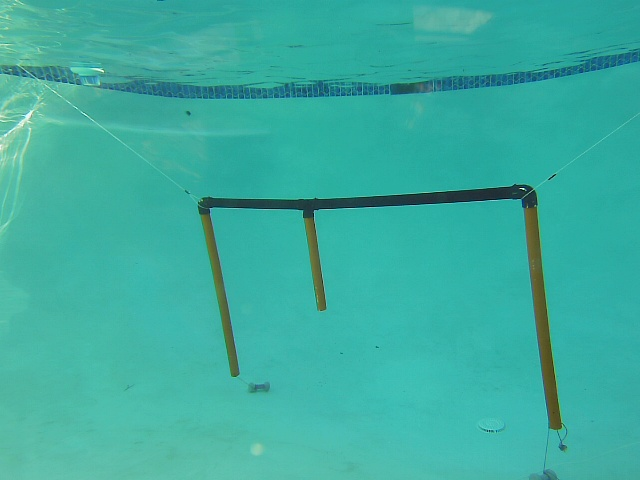Gate: (522, 201, 567, 431), (196, 207, 242, 380), (301, 214, 329, 313)
